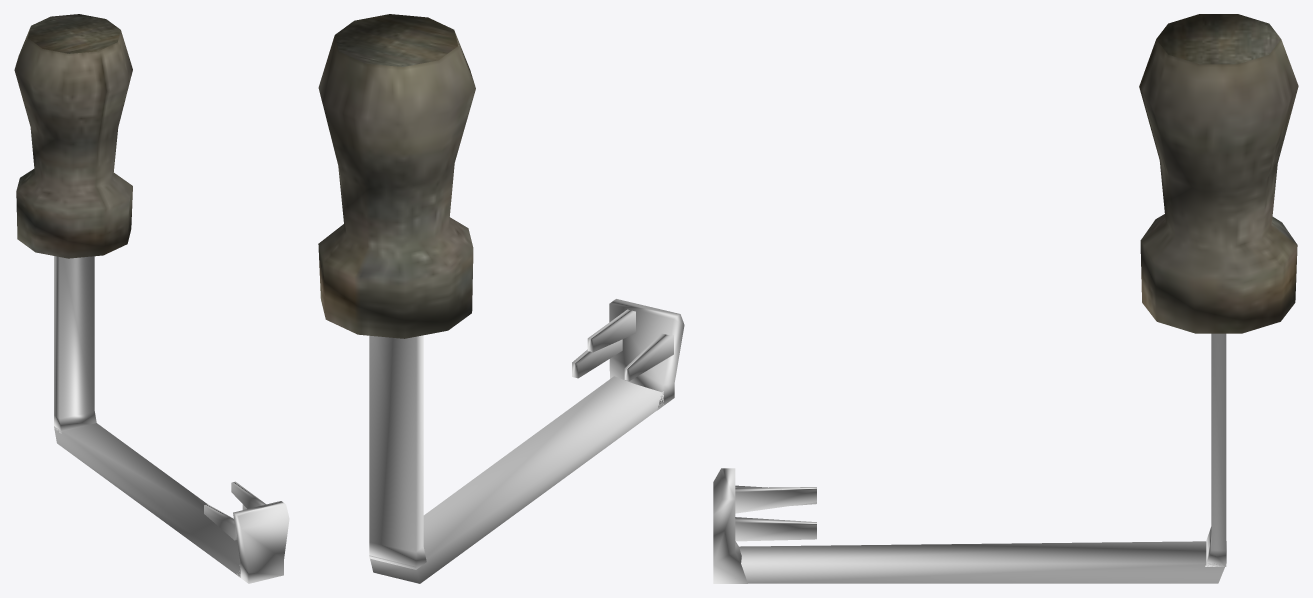
File: key.glb
The picture shows the model from 3 angles, left to right: view 1: azimuth 30°, elevation 25°; view 2: azimuth 150°, elevation 25°; view 3: azimuth 270°, elevation 25°; orthographic projection. The views are drawn at different scales.
Visible parts, largest first — view 1: handle, key; view 2: handle, key; view 3: handle, key.
Part boxes in pixels (x1,y1,x2,y2): handle: (14,14,132,258); key: (54,256,289,583); handle: (318,14,475,338); key: (369,299,684,583); handle: (1139,14,1298,333); key: (713,333,1226,583).
Size of the model in its own units: 0.4033 by 1.56 by 1.55.
1 material, 1 textured.
